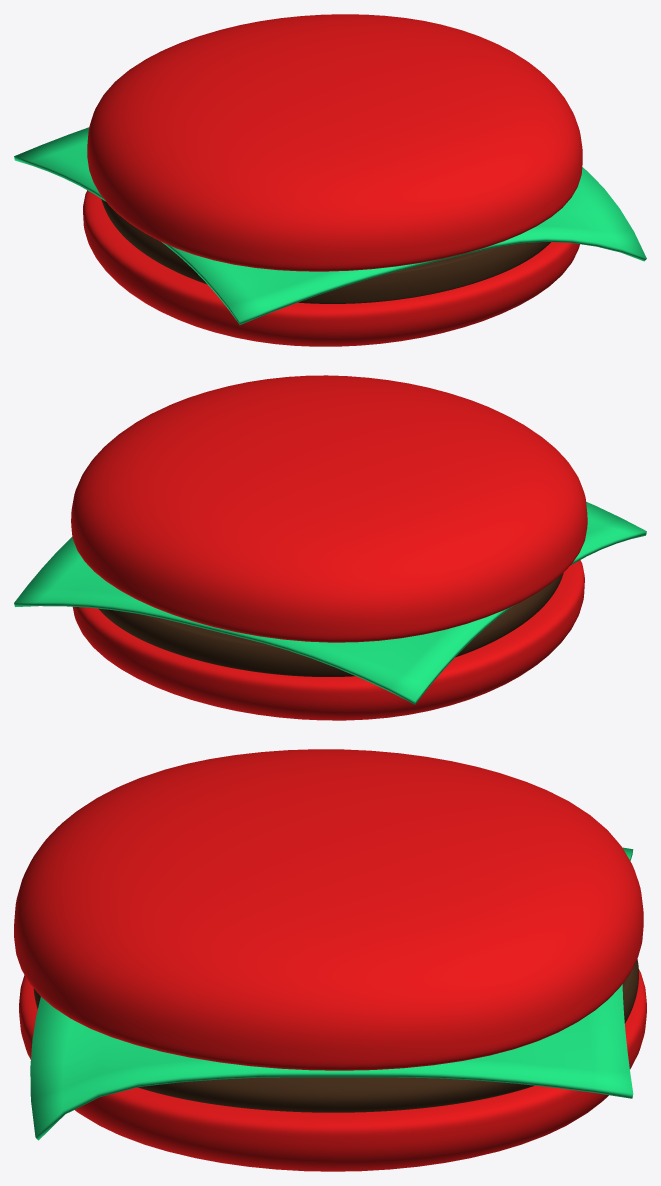
File: burger.glb
3 renders of one model, top to bottom at view 1: azimuth 30°, elevation 25°; view 2: azimuth 150°, elevation 25°; view 3: azimuth 270°, elevation 25°, orthographic. The views are drawn at different scales.
Visible parts, largest first — view 1: Cube.001, Cube, Plane, Cube.002; view 2: Cube.001, Cube, Plane, Cube.002; view 3: Cube.001, Cube, Plane, Cube.002.
Boxes of the visible parts, box(x1,y1,x2,y2) form: Cube.001: box(87, 14, 582, 271); Cube: box(83, 190, 579, 346); Plane: box(14, 127, 646, 324); Cube.002: box(101, 199, 550, 303); Cube.001: box(71, 375, 587, 642); Cube: box(72, 560, 584, 720); Plane: box(14, 502, 646, 704); Cube.002: box(98, 573, 563, 676); Cube.001: box(14, 749, 643, 1070); Cube: box(19, 969, 646, 1171); Plane: box(30, 847, 633, 1140); Cube.002: box(33, 959, 638, 1112).
Size of the model in its own units: 9.22 by 4.12 by 9.27.
